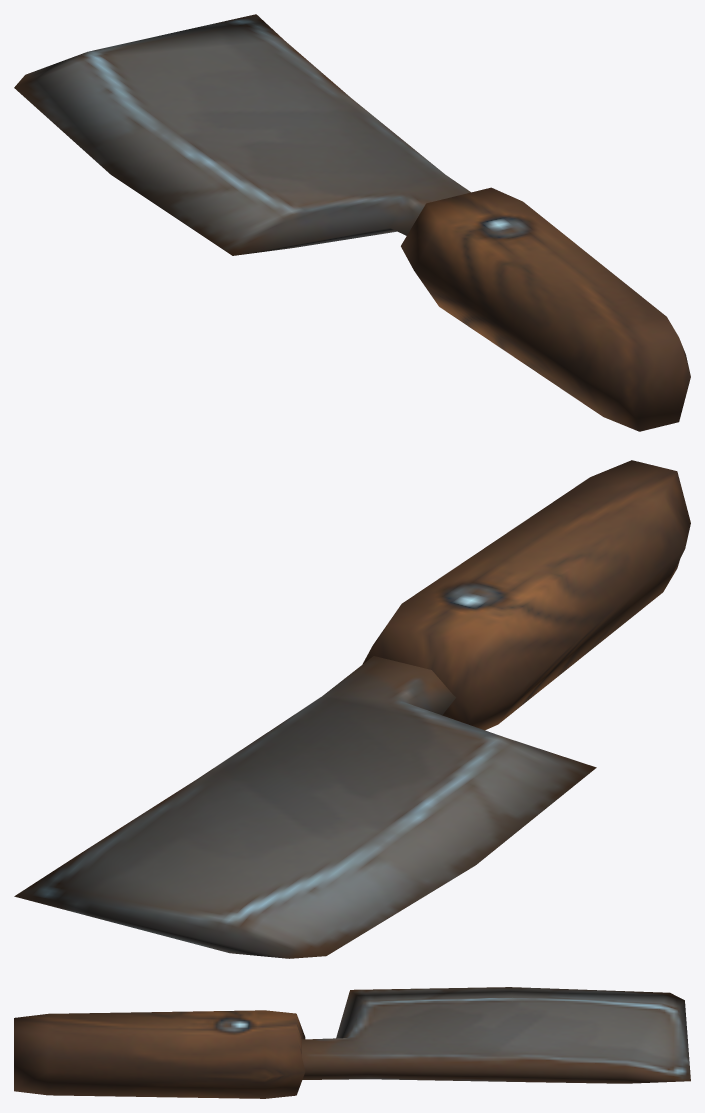
The model's file is hatchet.fbx.
The picture shows the model from 3 angles, top to bottom: view 1: azimuth 30°, elevation 25°; view 2: azimuth 150°, elevation 25°; view 3: azimuth 270°, elevation 25°; orthographic projection. The views are drawn at different scales.
Parts seen in each view (by area): view 1: hatchet; view 2: hatchet; view 3: hatchet.
Part boxes in pixels (box(x1,y1,x2,y2)): hatchet: box(14, 14, 690, 431); hatchet: box(14, 460, 690, 958); hatchet: box(14, 987, 690, 1098).
Size of the model in its own units: 15.06 by 4.45 by 45.77.
